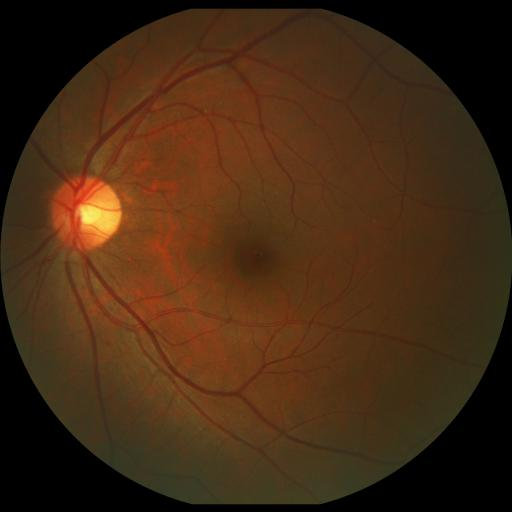Optic Cup: (78, 202, 101, 226)
Optic Disc: (50, 177, 122, 251)
